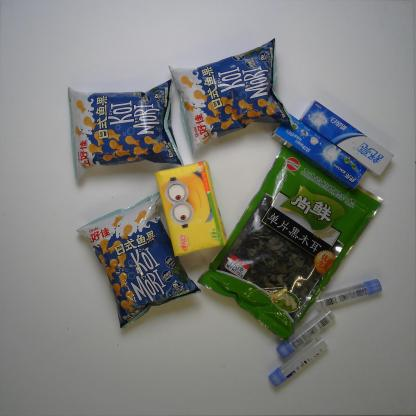Dried Food: (195, 146, 386, 340)
Personal Hygiene: (268, 109, 370, 193), (299, 100, 394, 178)
Puffed Food: (74, 190, 202, 330), (166, 36, 296, 157), (66, 77, 186, 181)
Stationery: (267, 334, 330, 388), (276, 306, 336, 360), (313, 277, 384, 309)
Tissue: (153, 160, 230, 258)
